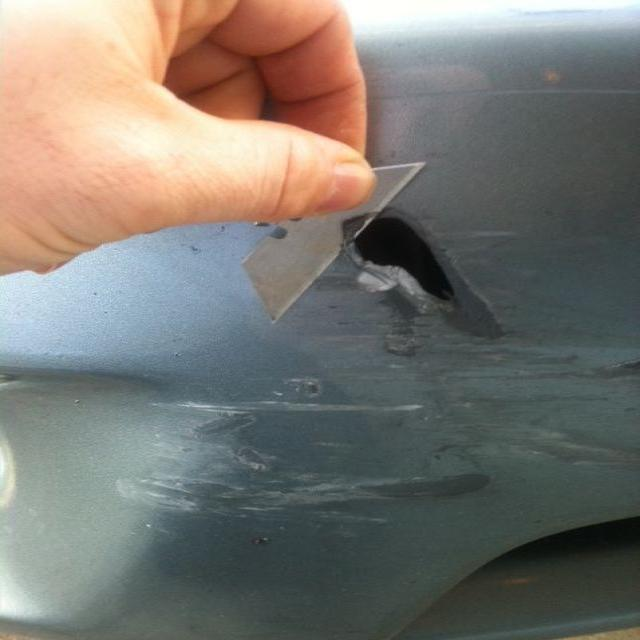scratch: (89, 212, 640, 554)
tear: (354, 217, 453, 300)
